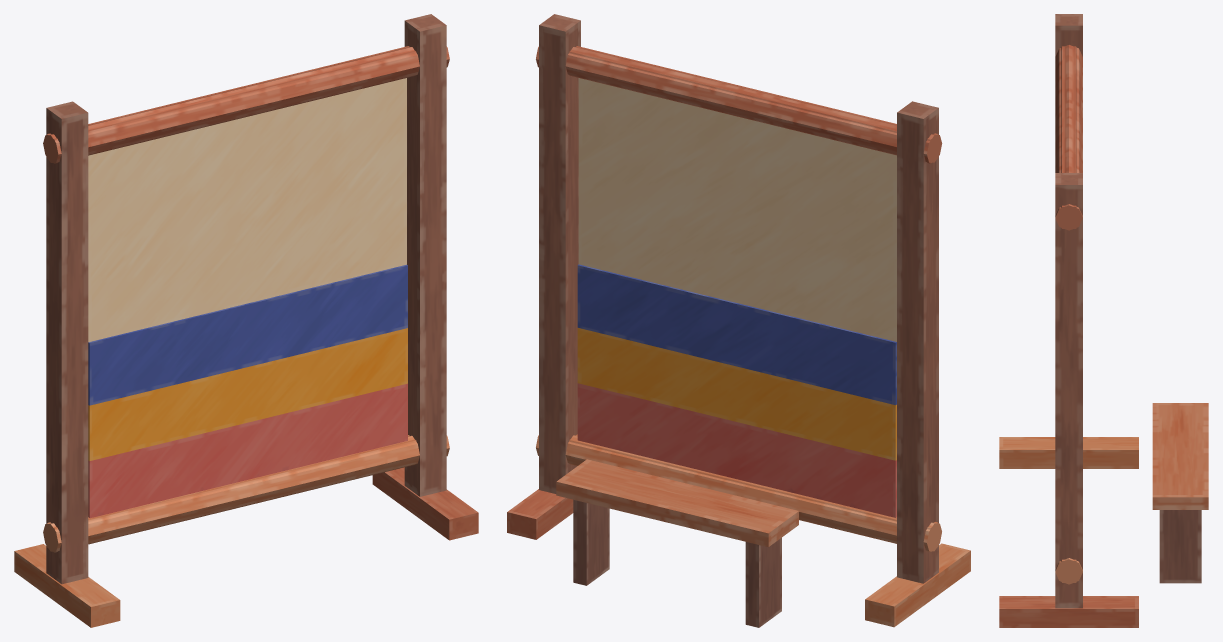
File: loom.bundle.fbx
The picture shows the model from 3 angles, left to right: view 1: azimuth 30°, elevation 25°; view 2: azimuth 150°, elevation 25°; view 3: azimuth 270°, elevation 25°; orthographic projection. The views are drawn at different scales.
Visible parts, largest first — view 1: loom, loom_low, loom_s01, loom_s00, loom_s04, loom_s03, loom_s05, loom_s02; view 2: loom, loom_low, loom_s01, loom_s05, loom_s00, loom_s02, loom_s03; view 3: loom, loom_low, loom_s00, loom_s05, loom_s04.
Boxes of the visible parts, bbox=[...] form: loom: bbox=[14, 15, 478, 627]; loom_low: bbox=[44, 14, 446, 584]; loom_s01: bbox=[46, 221, 88, 583]; loom_s00: bbox=[407, 145, 446, 309]; loom_s04: bbox=[405, 21, 446, 148]; loom_s03: bbox=[46, 108, 88, 192]; loom_s05: bbox=[404, 298, 446, 496]; loom_s02: bbox=[46, 177, 88, 267]; loom: bbox=[507, 15, 970, 627]; loom_low: bbox=[539, 14, 938, 583]; loom_s01: bbox=[897, 214, 938, 583]; loom_s05: bbox=[539, 293, 577, 493]; loom_s00: bbox=[539, 142, 578, 306]; loom_s02: bbox=[897, 185, 938, 276]; loom_s03: bbox=[897, 111, 938, 191]; loom: bbox=[999, 15, 1206, 627]; loom_low: bbox=[1055, 14, 1208, 608]; loom_s00: bbox=[1055, 293, 1082, 429]; loom_s05: bbox=[1055, 428, 1082, 608]; loom_s04: bbox=[1055, 185, 1082, 293].
Bounding box in the file's own units: 5.9 × 7 × 3.
Materials: 1 (1 with a texture image).
